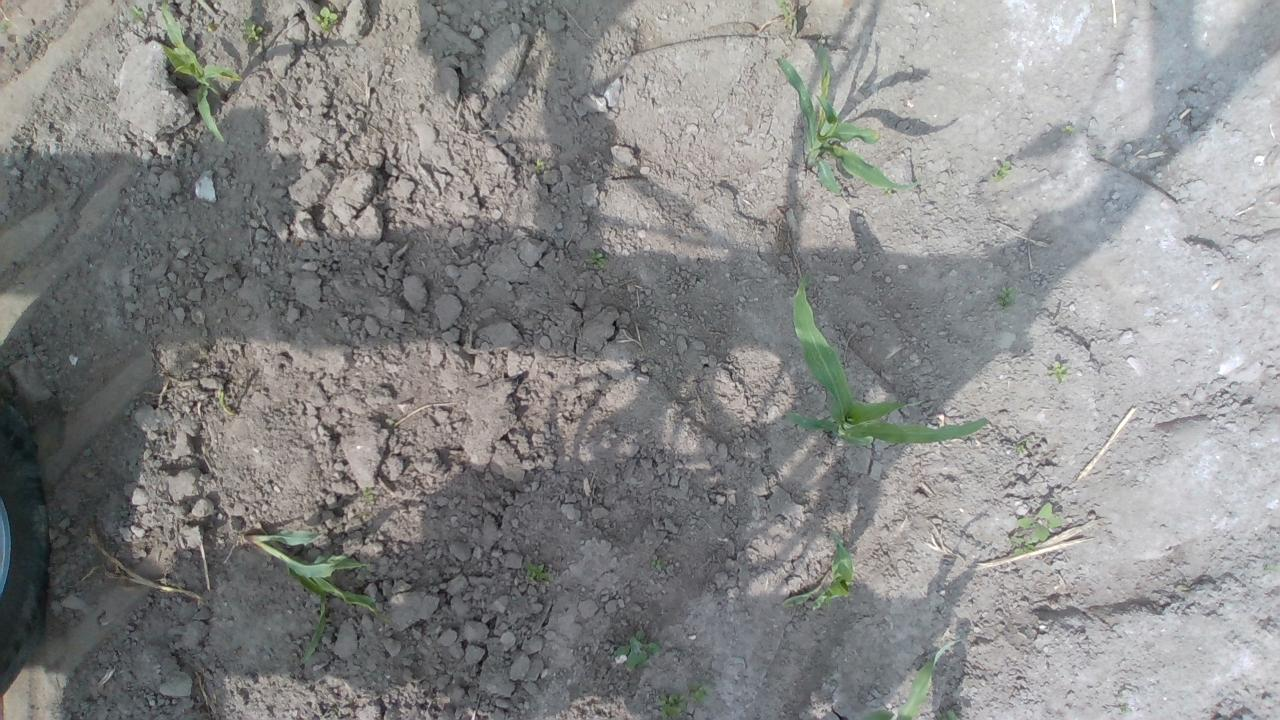Maize: (786, 276, 990, 446), (775, 39, 927, 199), (240, 528, 394, 666), (153, 0, 244, 143), (828, 635, 966, 720), (779, 528, 852, 610)
Weeds: (1010, 500, 1062, 556), (616, 628, 660, 674), (656, 692, 689, 720), (687, 678, 712, 704), (776, 0, 798, 29), (312, 6, 338, 30), (524, 562, 552, 583), (997, 284, 1018, 312), (242, 18, 264, 43), (1047, 360, 1070, 381), (586, 248, 608, 268), (992, 162, 1012, 182), (936, 708, 961, 720), (130, 4, 146, 22), (650, 554, 663, 572), (1014, 442, 1028, 456), (532, 158, 544, 173), (362, 487, 374, 501), (1060, 124, 1074, 135), (217, 391, 226, 406), (884, 187, 894, 197), (0, 21, 8, 33), (387, 418, 395, 425)
